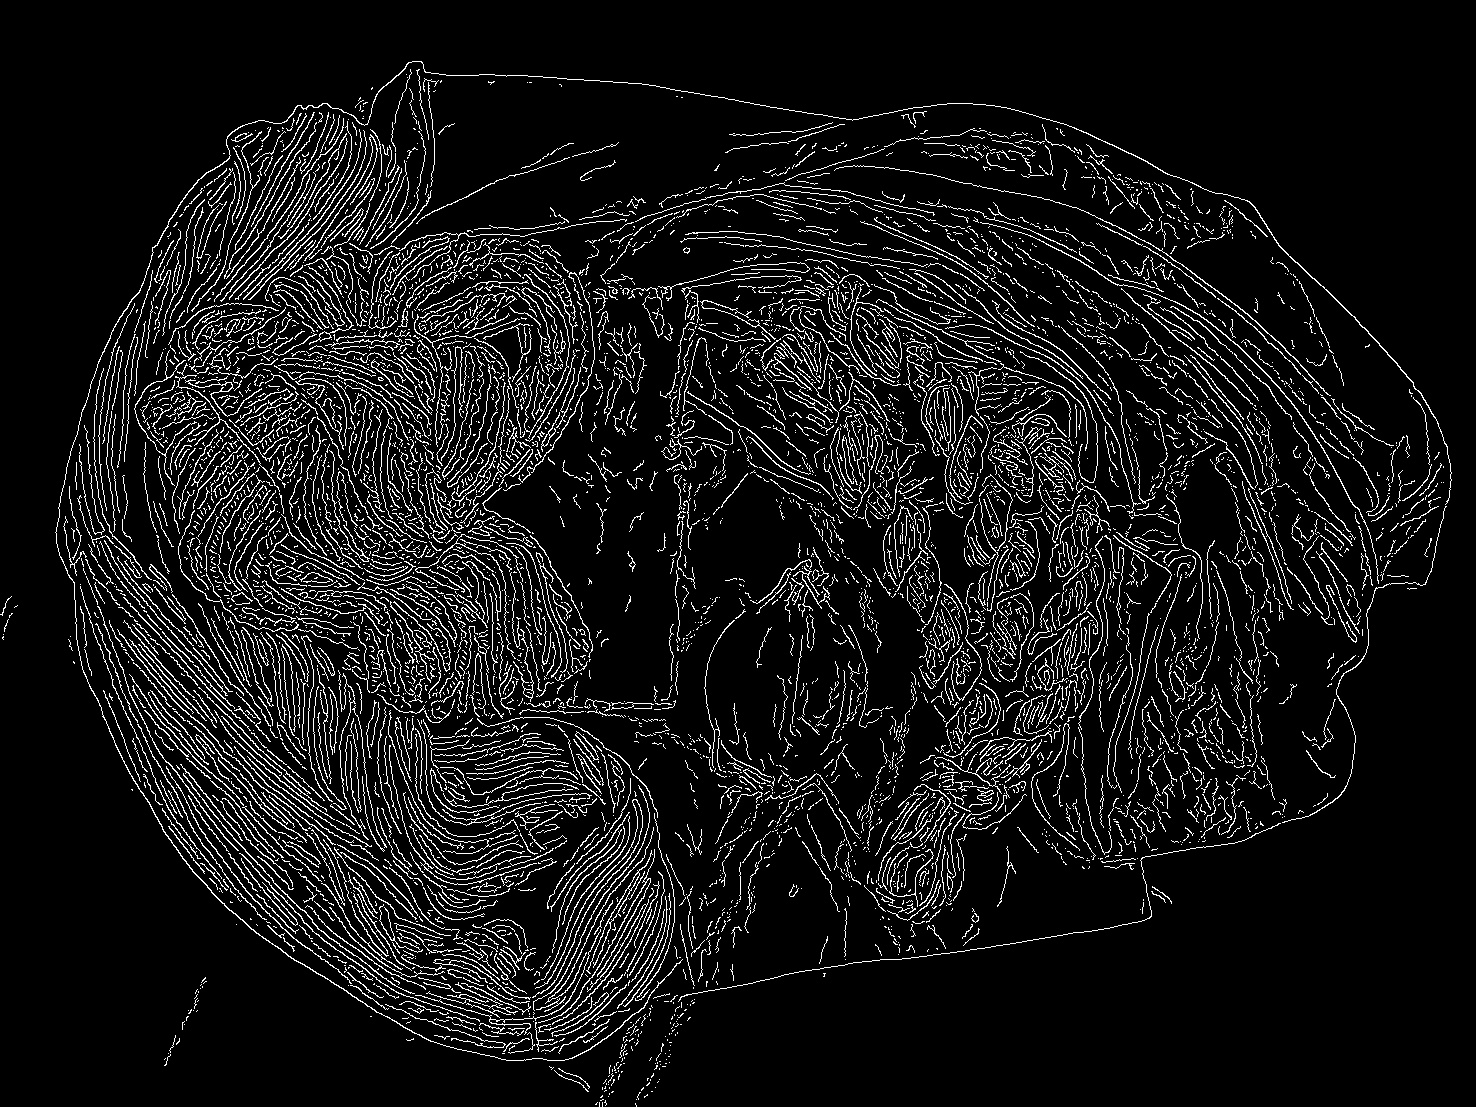onion: (692, 547, 888, 850)
